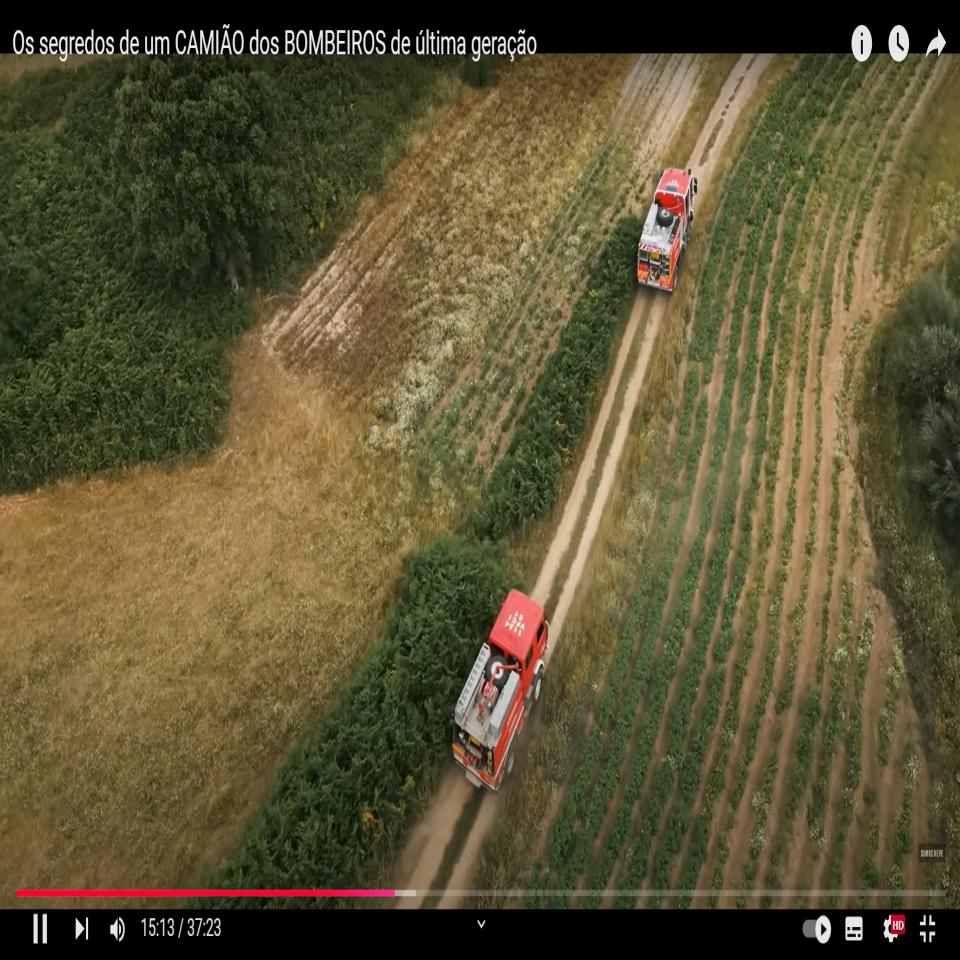viatura: (451, 590, 551, 796), (635, 164, 699, 296)
